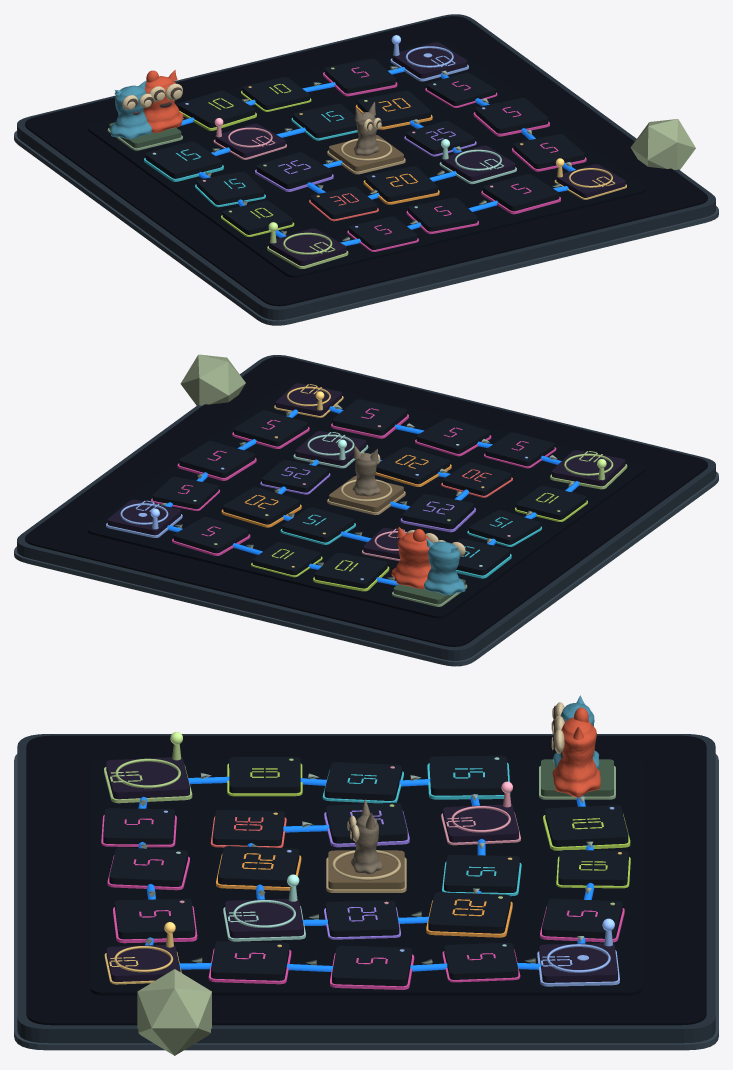
The model's file is five-senses.glb.
3 views of the same model, one above another, from view 1: azimuth 30°, elevation 25°; view 2: azimuth 150°, elevation 25°; view 3: azimuth 270°, elevation 25° (orthographic). The views are drawn at different scales.
Visible parts, largest first — view 1: 5 Senses — complete tabletop, Rounded tabletop base, Single sculpted body with puddled scallop hem (×3), Twenty-sided die, Hand placed tile 12, Hand placed tile 4, Hand placed tile 15, Hand placed tile 9, Hand placed tile 20, Hand placed tile 6, Hand placed tile 1, Hand placed tile 23 (+17 smaller); view 2: 5 Senses — complete tabletop, Rounded tabletop base, Single sculpted body with puddled scallop hem (×3), Twenty-sided die, Hand placed tile 12, Hand placed tile 18, Hand placed tile 9, Hand placed tile 1, Hand placed tile 6, Hand placed tile 4, Hand placed tile 21, Hand placed tile 23 (+17 smaller); view 3: 5 Senses — complete tabletop, Rounded tabletop base, Twenty-sided die, Single sculpted body with puddled scallop hem (×2), Hand placed tile 12, Hand placed tile 4, Hand placed tile 18, Hand placed tile 20, Hand placed tile 1, Hand placed tile 15, Hand placed tile 6, Hand placed tile 9 (+17 smaller).
Part boxes in pixels (<box>): 5 Senses — complete tabletop: <box>14,16,718,325</box>; Rounded tabletop base: <box>17,14,715,320</box>; Single sculpted body with puddled scallop hem (×3): <box>110,76,379,155</box>; Twenty-sided die: <box>630,119,695,169</box>; Hand placed tile 12: <box>268,222,346,265</box>; Hand placed tile 4: <box>391,35,467,78</box>; Hand placed tile 15: <box>145,141,222,178</box>; Hand placed tile 9: <box>483,174,559,211</box>; Hand placed tile 20: <box>441,139,515,181</box>; Hand placed tile 6: <box>475,98,548,133</box>; Hand placed tile 1: <box>178,90,255,127</box>; Hand placed tile 23: <box>256,152,331,189</box>; 5 Senses — complete tabletop: <box>14,357,718,666</box>; Rounded tabletop base: <box>17,355,715,660</box>; Single sculpted body with puddled scallop hem (×3): <box>352,453,465,595</box>; Twenty-sided die: <box>180,354,245,405</box>; Hand placed tile 12: <box>552,450,625,486</box>; Hand placed tile 18: <box>223,487,299,524</box>; Hand placed tile 9: <box>332,399,407,435</box>; Hand placed tile 1: <box>314,553,387,588</box>; Hand placed tile 6: <box>179,441,254,477</box>; Hand placed tile 4: <box>107,499,180,535</box>; Hand placed tile 21: <box>376,447,449,484</box>; Hand placed tile 23: <box>402,494,474,529</box>; 5 Senses — complete tabletop: <box>14,735,718,1050</box>; Rounded tabletop base: <box>17,734,715,1043</box>; Twenty-sided die: <box>137,969,211,1055</box>; Single sculpted body with puddled scallop hem (×2): <box>351,717,600,874</box>; Hand placed tile 12: <box>106,732,189,799</box>; Hand placed tile 4: <box>539,918,617,982</box>; Hand placed tile 18: <box>428,892,510,933</box>; Hand placed tile 20: <box>225,874,303,938</box>; Hand placed tile 1: <box>545,805,628,846</box>; Hand placed tile 15: <box>429,755,507,795</box>; Hand placed tile 6: <box>332,945,411,986</box>; Hand placed tile 9: <box>115,898,195,939</box>.
Size of the model in its own units: 8.07 by 1.39 by 7.72.
